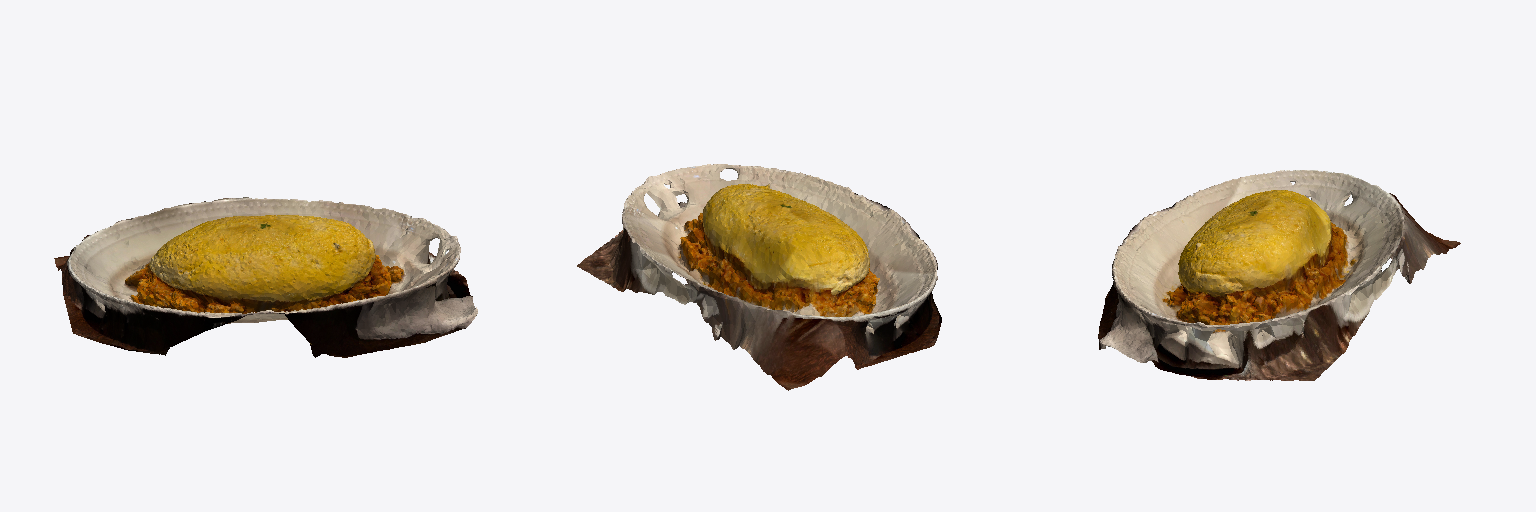
The picture shows the model from 3 angles: view 1: azimuth 30°, elevation 25°; view 2: azimuth 150°, elevation 25°; view 3: azimuth 270°, elevation 25°; orthographic projection.
Parts seen in each view (by area): view 1: bc4b46cd-eea8-46a9-84e6-da7d1a304c1a_0; view 2: bc4b46cd-eea8-46a9-84e6-da7d1a304c1a_0; view 3: bc4b46cd-eea8-46a9-84e6-da7d1a304c1a_0.
Boxes of the visible parts, box(x1,y1,x2,y2) form: bc4b46cd-eea8-46a9-84e6-da7d1a304c1a_0: box(54, 197, 477, 357); bc4b46cd-eea8-46a9-84e6-da7d1a304c1a_0: box(577, 164, 941, 390); bc4b46cd-eea8-46a9-84e6-da7d1a304c1a_0: box(1098, 170, 1460, 380).
Size of the model in its own units: 0.3152 by 0.0732 by 0.2842.
Materials: 1 (1 with a texture image).